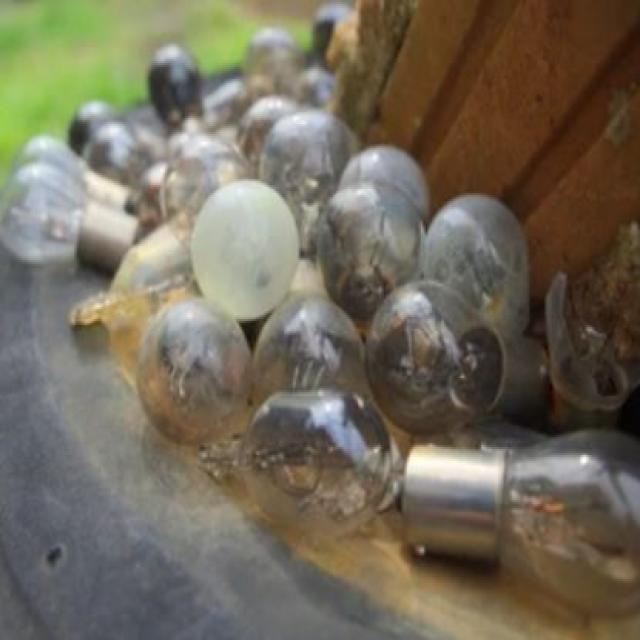electronic: (0, 0, 638, 618), (398, 424, 638, 616), (198, 384, 402, 538), (188, 177, 299, 321)
